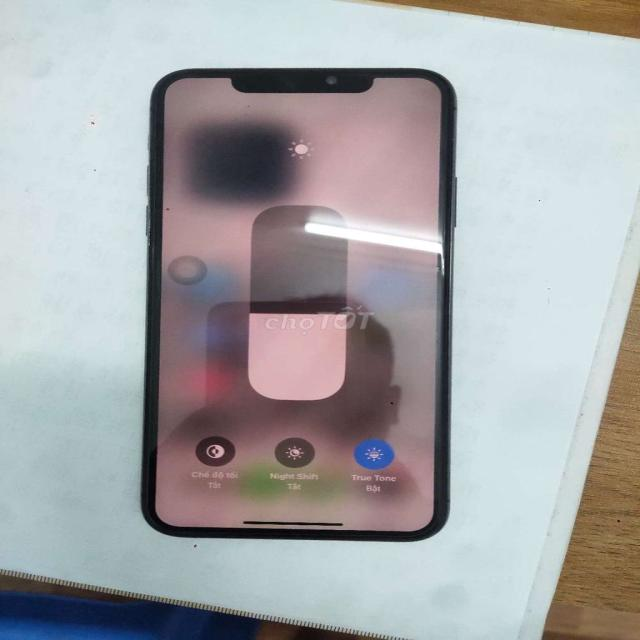gen_11: (133, 61, 470, 548)
